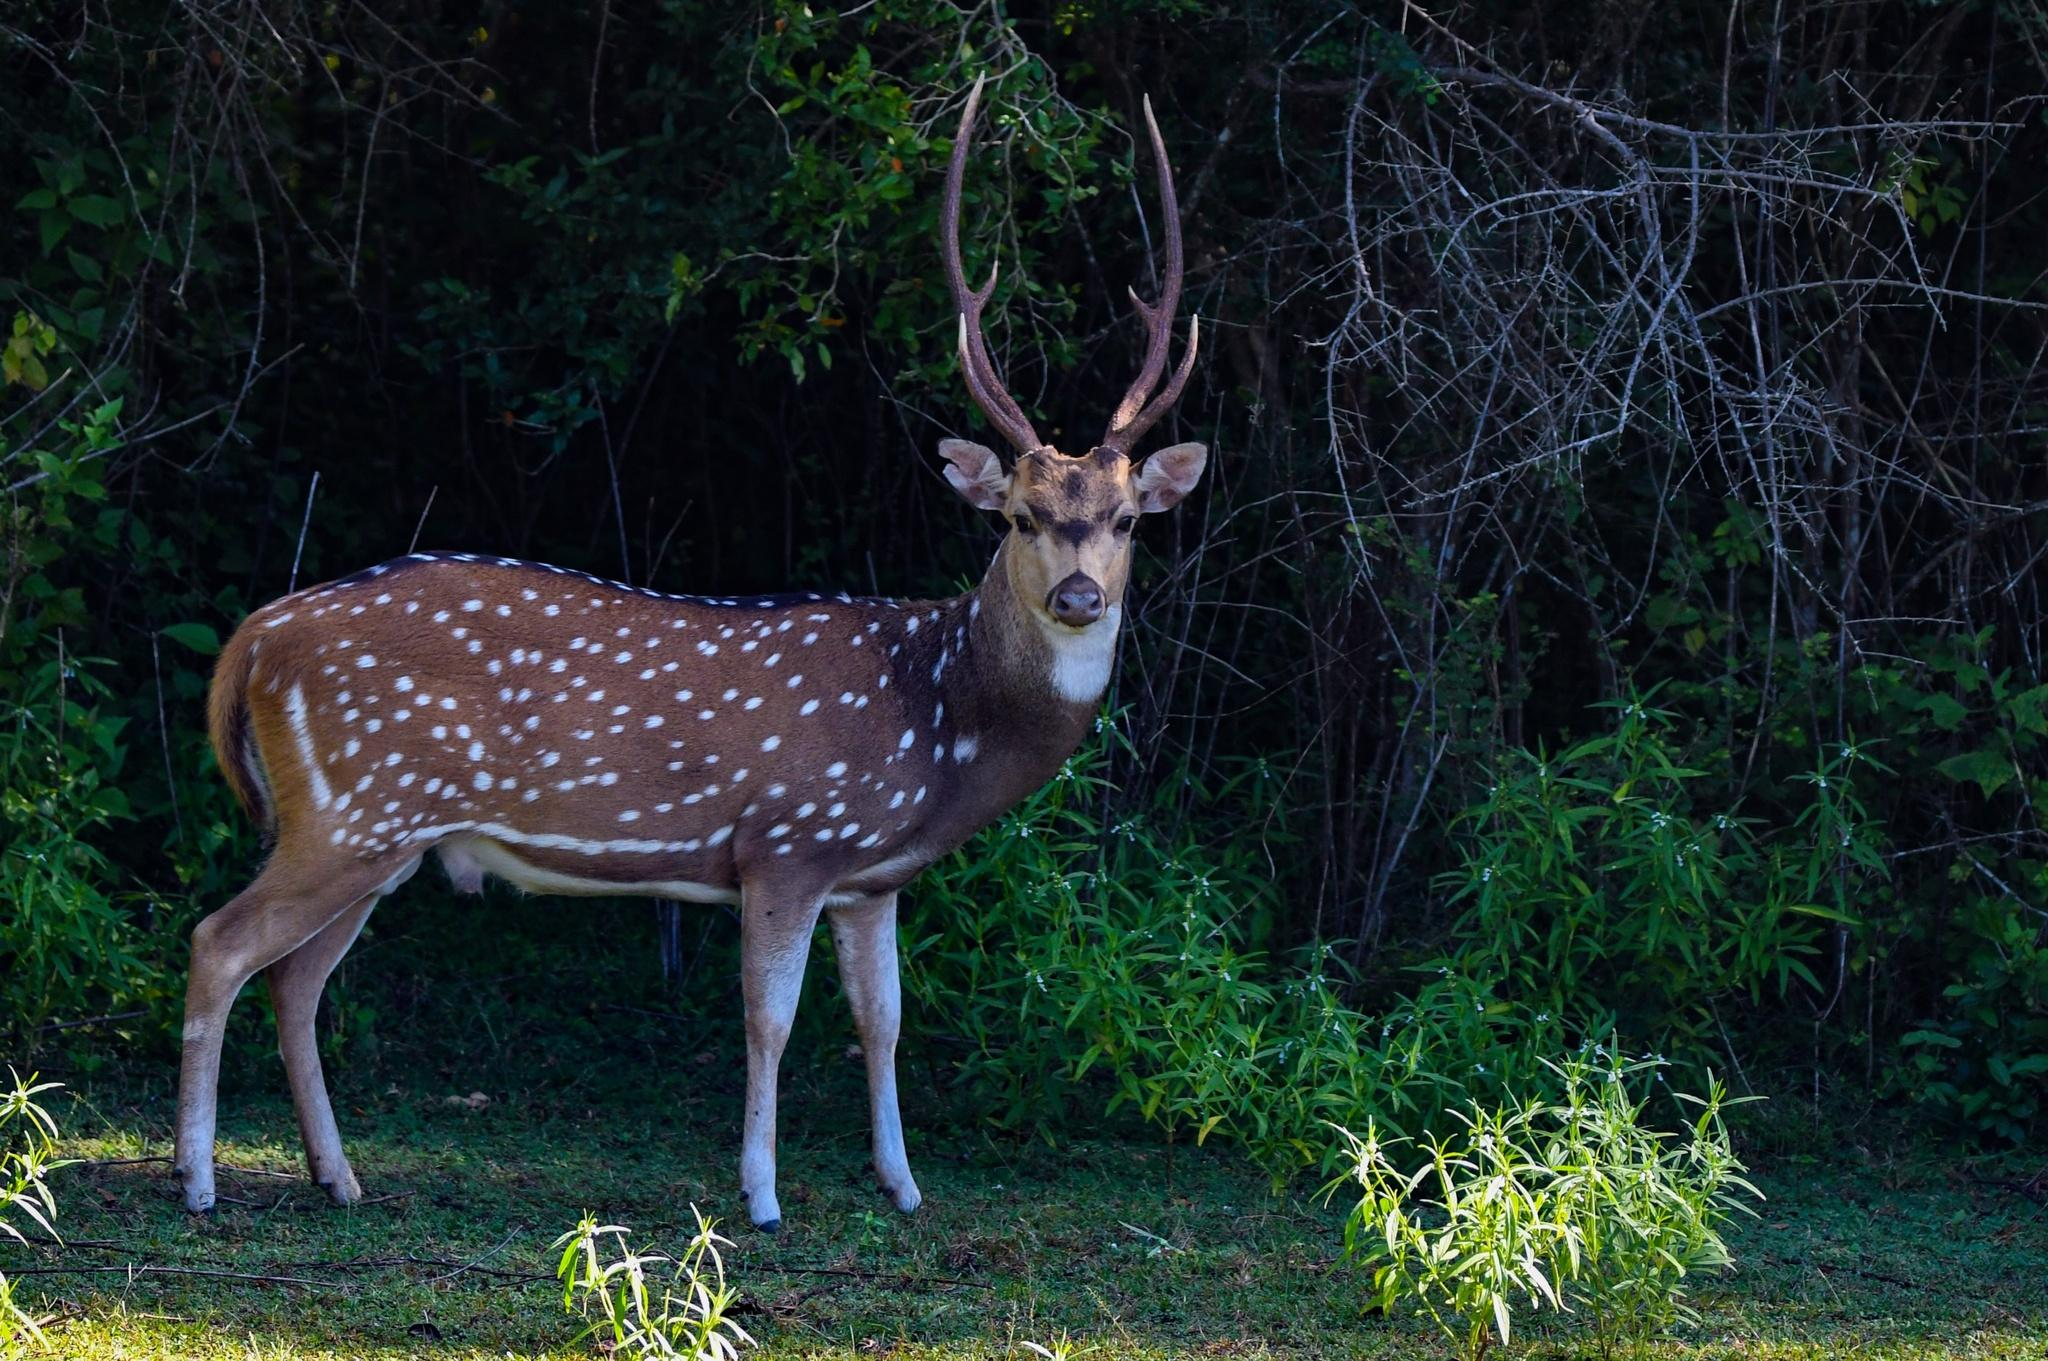Deer: (175, 81, 1207, 1227)
